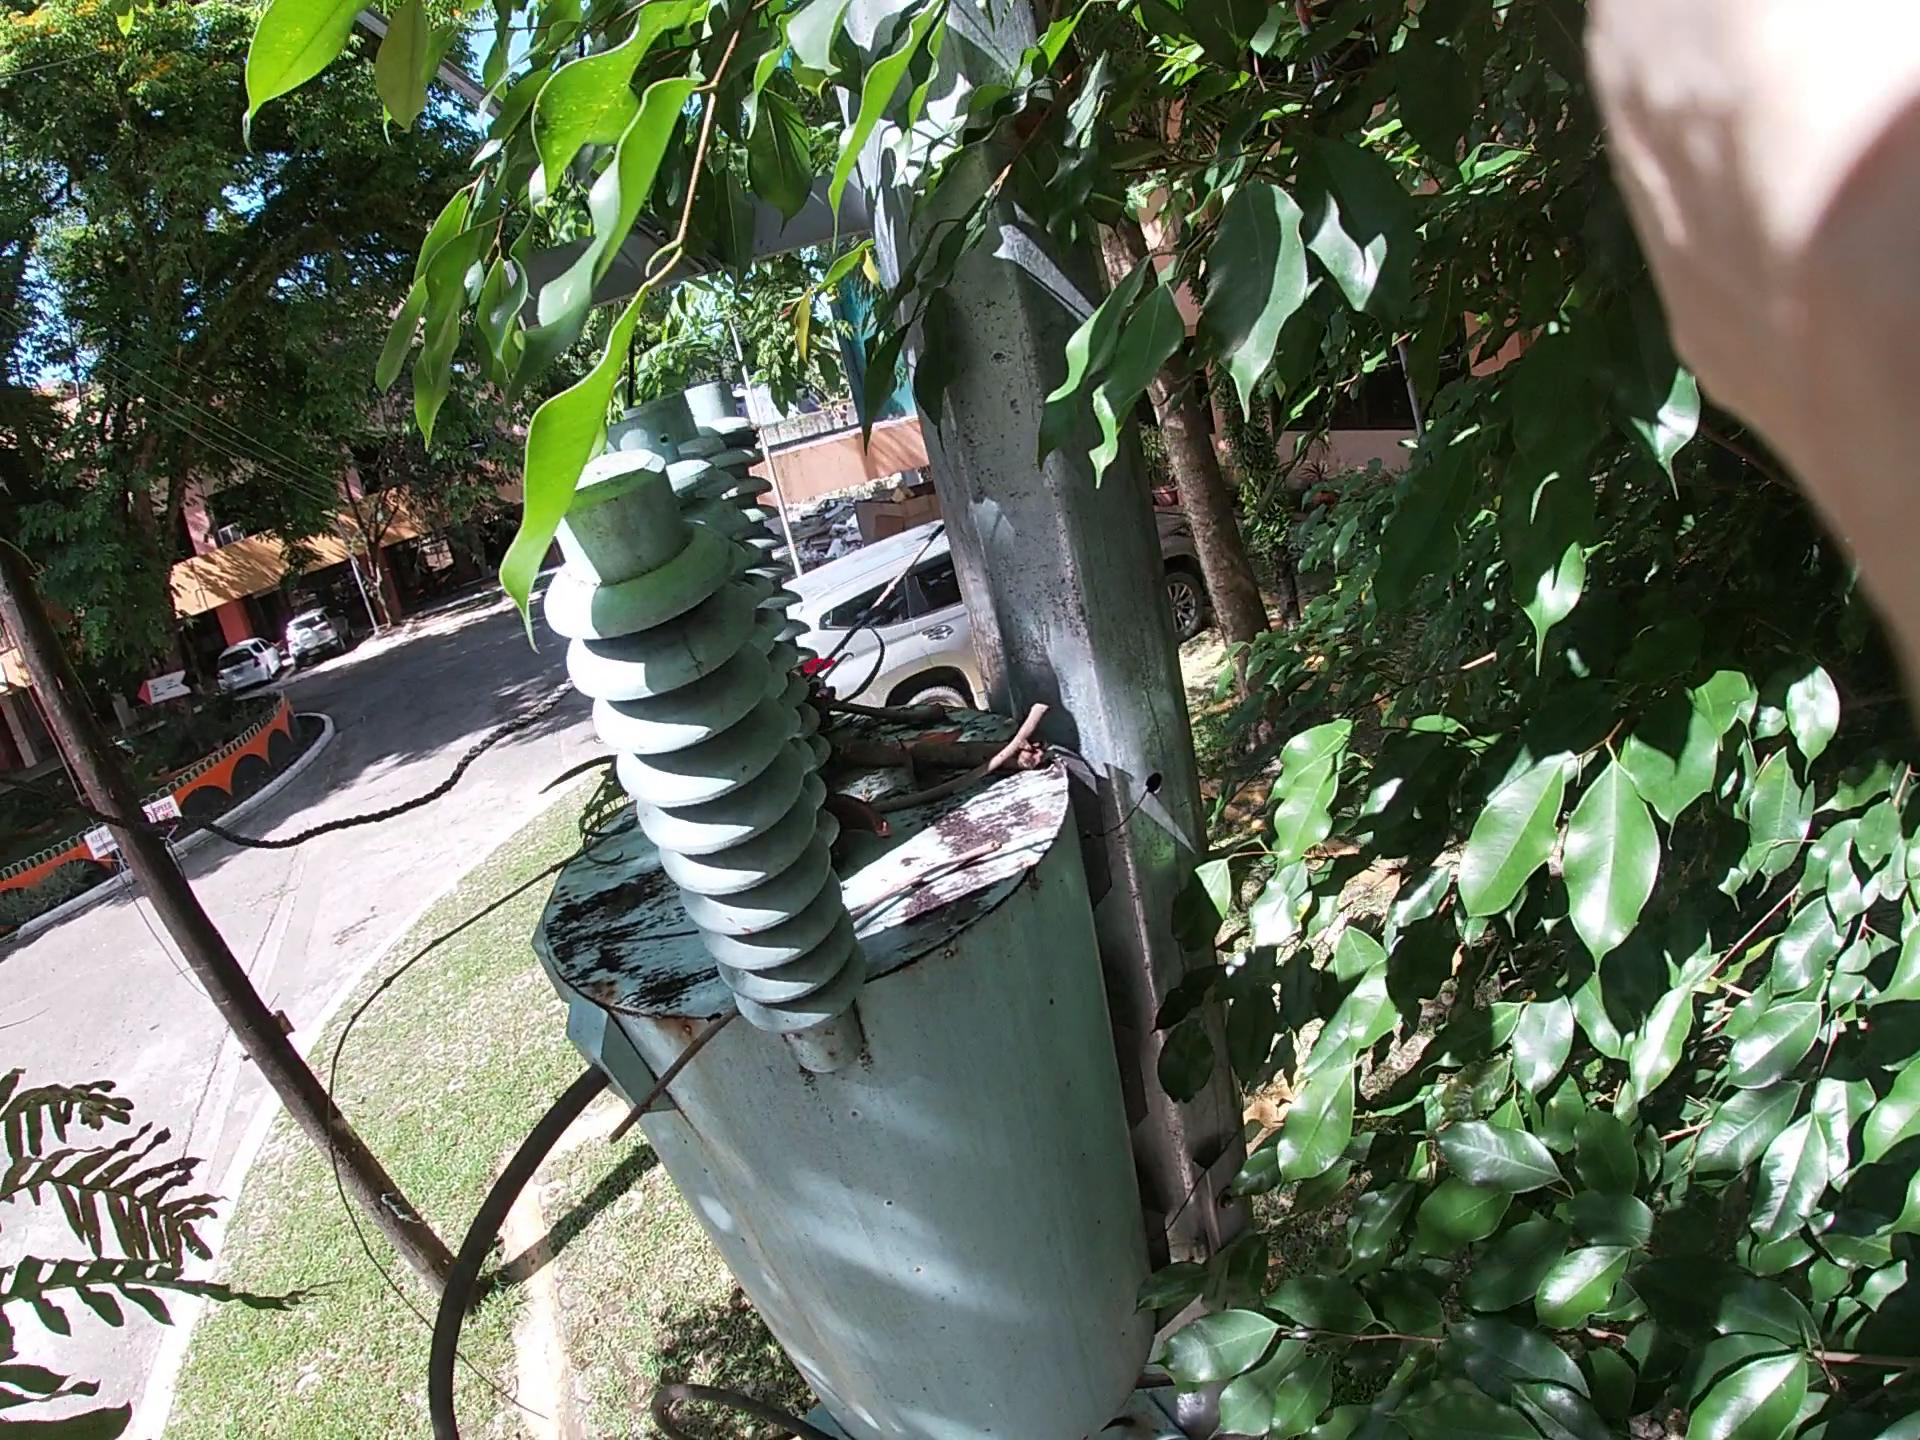branch with leaves: (562, 641, 974, 812)
mahogany fruit: (813, 746, 918, 874)
tree branch: (319, 702, 597, 1333), (650, 839, 1028, 1137), (807, 725, 1019, 852)
